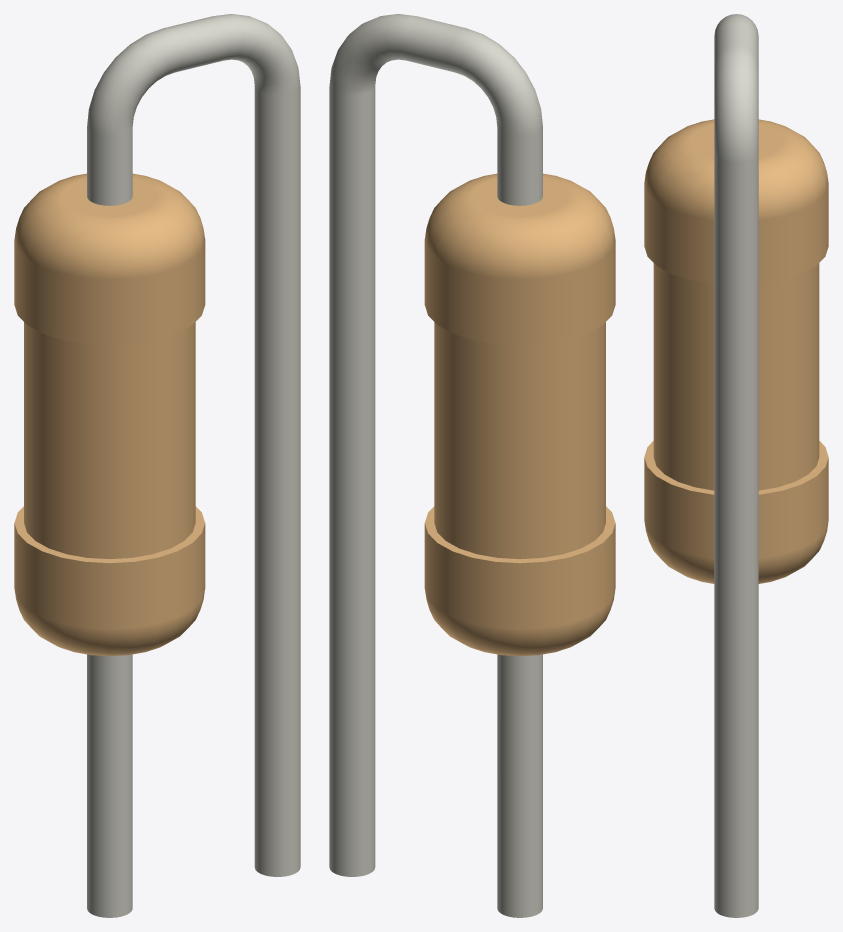
File: Resistor_THT__R_Axial_DIN0207_L6.3mm_D2.5mm_P2.54mm_Vertical.glb
3 views of the same model, side by side, from view 1: azimuth 30°, elevation 25°; view 2: azimuth 150°, elevation 25°; view 3: azimuth 270°, elevation 25° (orthographic). The views are drawn at different scales.
Visible parts, largest first — view 1: R_Axial_DIN0207_L63mm_D25mm_P254mm_Vertical; view 2: R_Axial_DIN0207_L63mm_D25mm_P254mm_Vertical; view 3: R_Axial_DIN0207_L63mm_D25mm_P254mm_Vertical.
Boxes of the visible parts, box(x1,y1,x2,y2) form: R_Axial_DIN0207_L63mm_D25mm_P254mm_Vertical: box(14, 14, 300, 917); R_Axial_DIN0207_L63mm_D25mm_P254mm_Vertical: box(329, 14, 615, 917); R_Axial_DIN0207_L63mm_D25mm_P254mm_Vertical: box(644, 14, 828, 917).
Size of the model in its own units: 0.00409 by 0.0125 by 0.0025.
